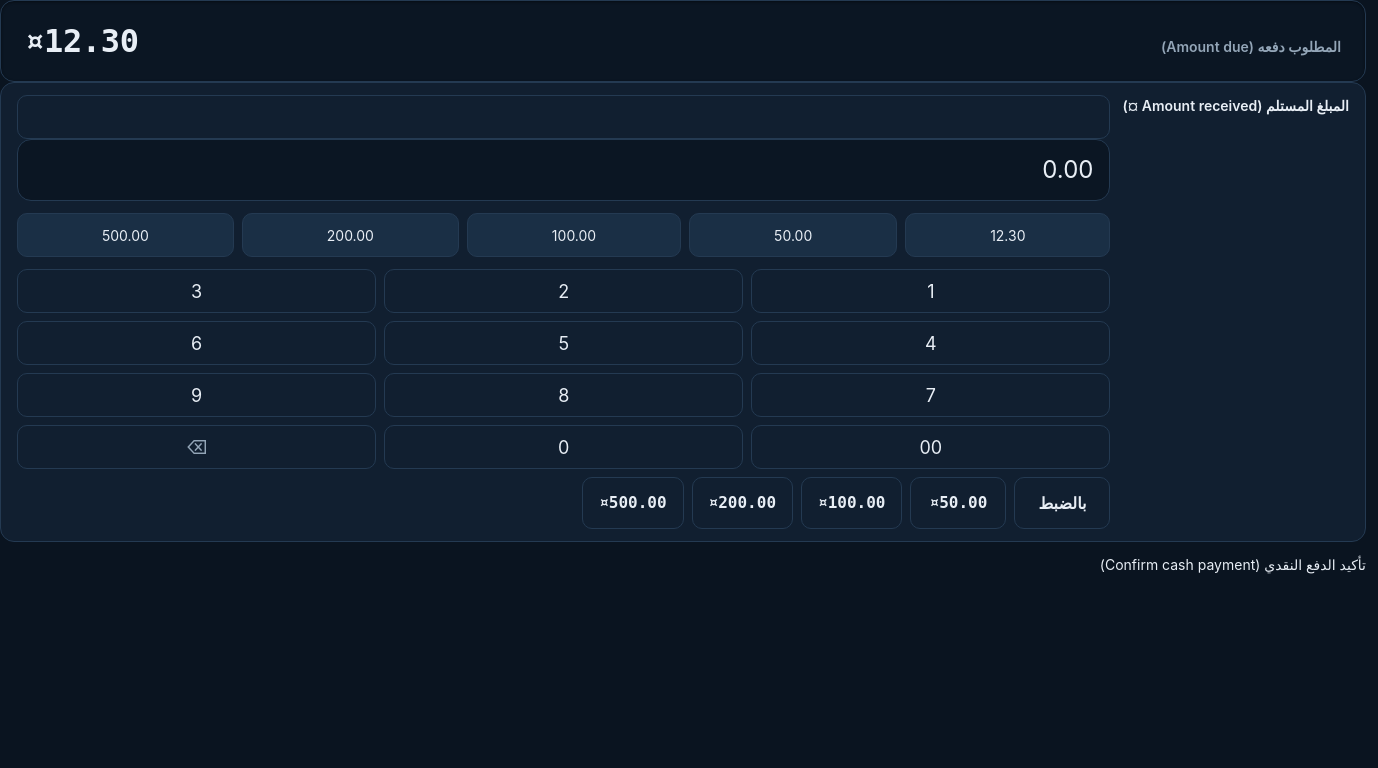
Test: CashEntry — v3.5 visual recompose (amount-due-card, tender-rows) › clicking a rounded-banknote suggestion chip fills the input with that amount
Step 1. Click the button "¤50.00" → (958, 503), box [910,477,1006,529]
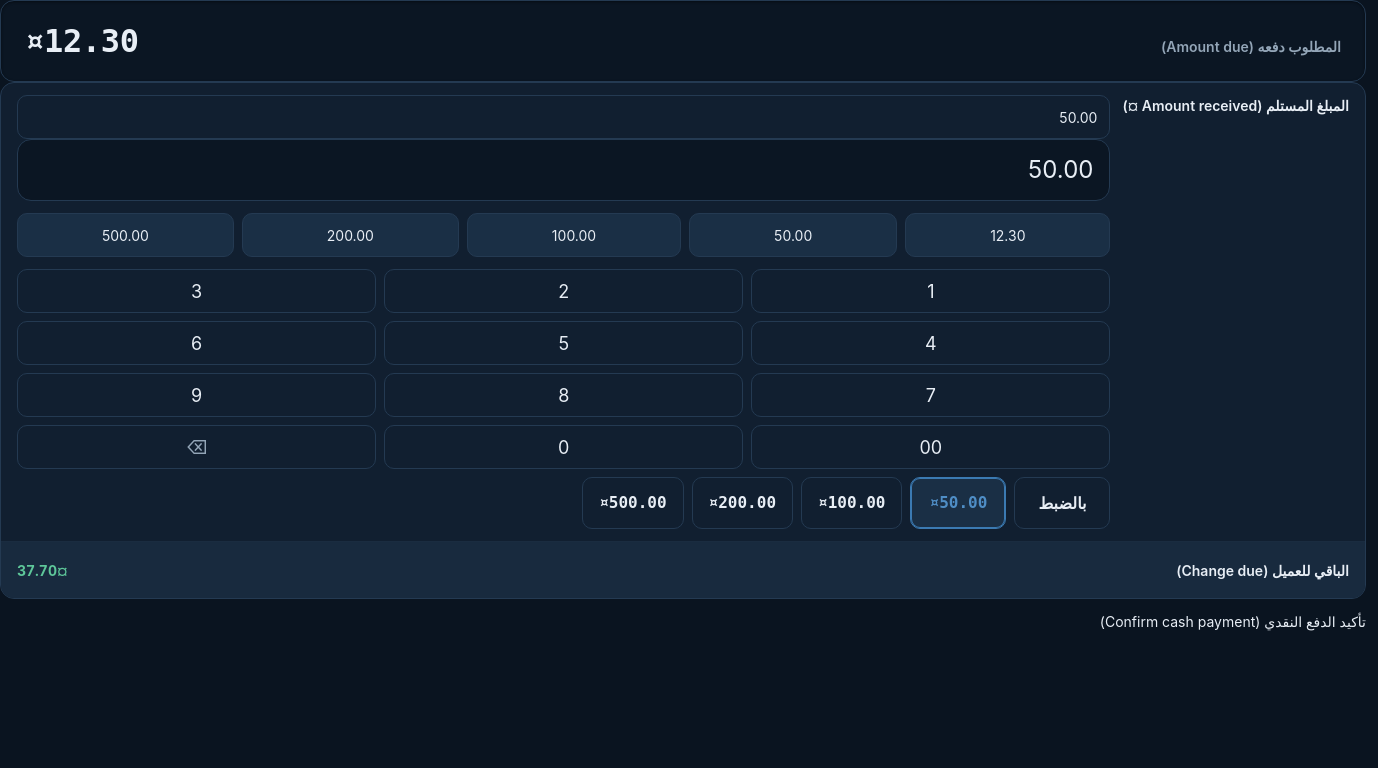
Result: the field with test id "cash-entry-amount-input" holds "50.00" at [17,95,1110,139]
